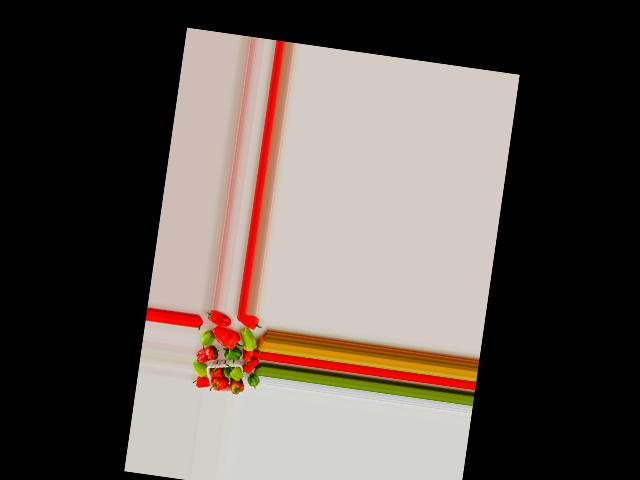bell_pepper: (238, 313, 264, 332)
